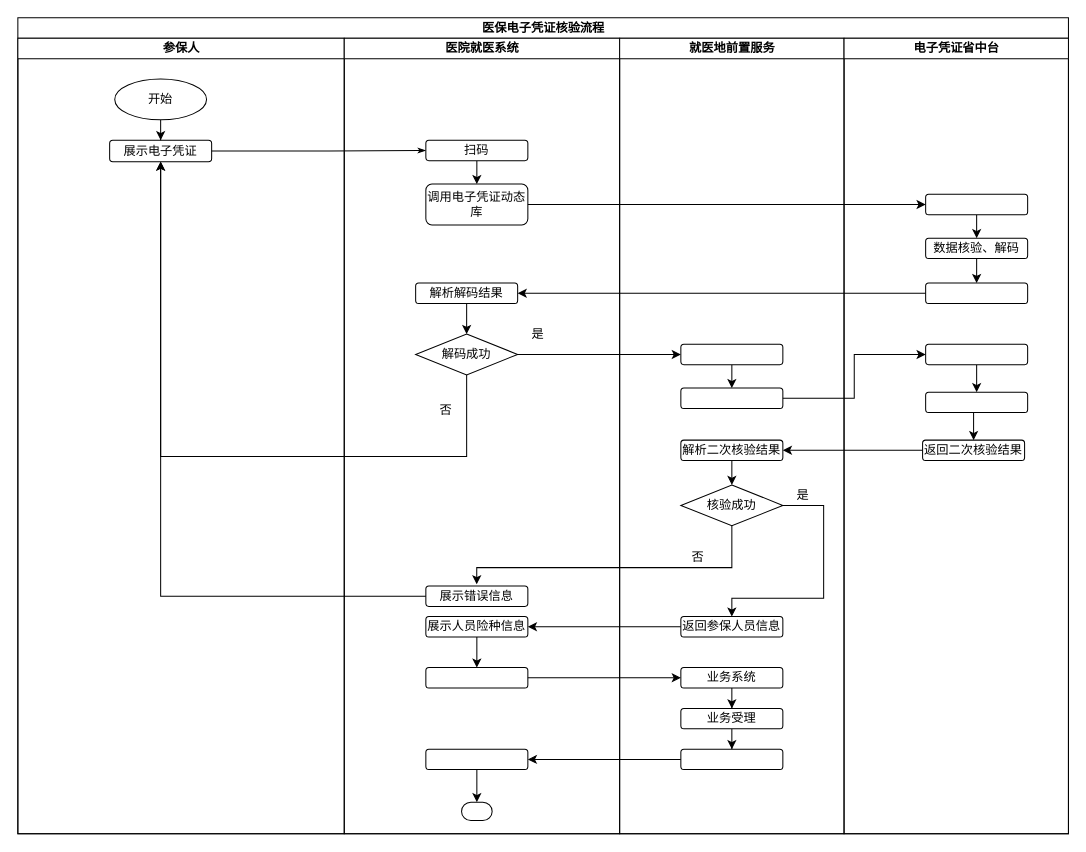
Some shapes in this 1086 by 852 pixel diagram are drawn without their labels. The centre of each missing label's shape, as x and y in pixels:
医院完成相关操作: point (476, 759)
完成相关业务操作: point (476, 677)
接受二次核验请求: point (731, 354)
接收二次核验请求: point (976, 354)
接收解码请求: point (976, 204)
数据核验: point (976, 402)
核验数据请求中台: point (731, 398)
结束: point (476, 811)
返回业务受理结果: point (731, 759)
返回解码结果: point (976, 292)
